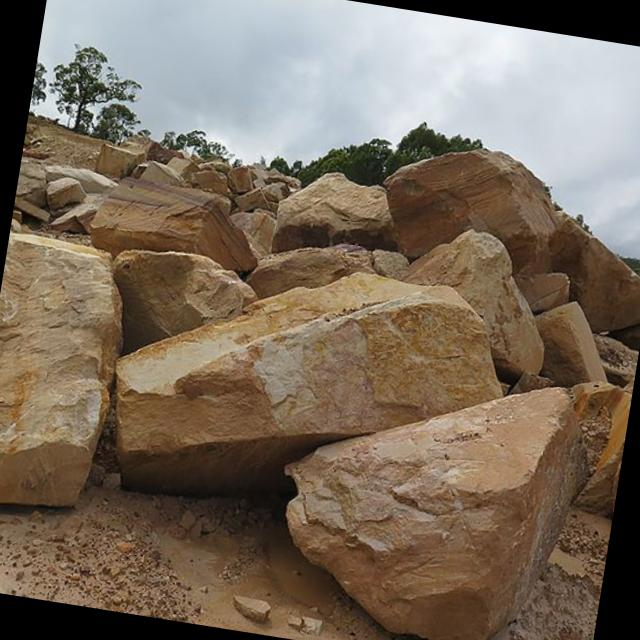red-sand: (0, 474, 409, 640), (23, 114, 103, 169)
rocks: (14, 143, 640, 515), (116, 273, 500, 493), (286, 388, 589, 640), (0, 232, 122, 505)
stone: (116, 273, 500, 493), (285, 388, 587, 640), (383, 149, 640, 330), (0, 232, 122, 505), (404, 230, 542, 376), (90, 179, 256, 271), (114, 250, 256, 354), (272, 174, 397, 250), (245, 246, 374, 298), (534, 302, 606, 386), (43, 165, 116, 194), (515, 273, 567, 313), (231, 209, 274, 257), (14, 165, 46, 218), (235, 183, 289, 213), (95, 144, 141, 179), (50, 203, 95, 234), (133, 160, 182, 186), (46, 178, 85, 210), (191, 170, 227, 196), (166, 157, 197, 179)
